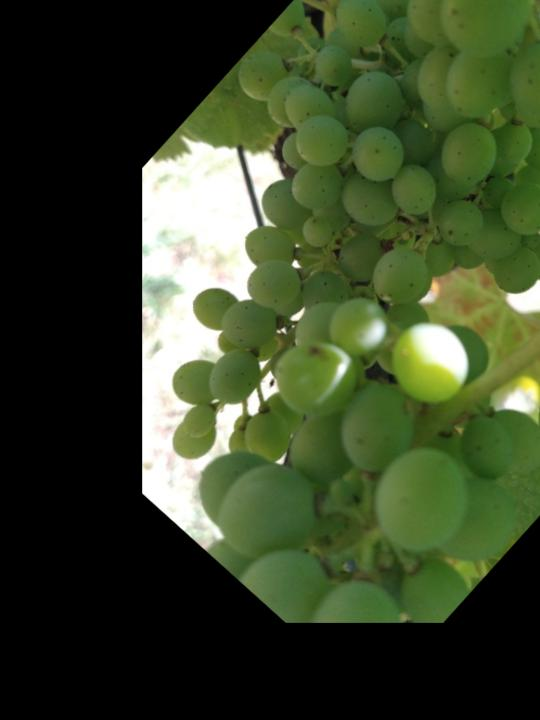grape: (15, 0, 540, 574)
